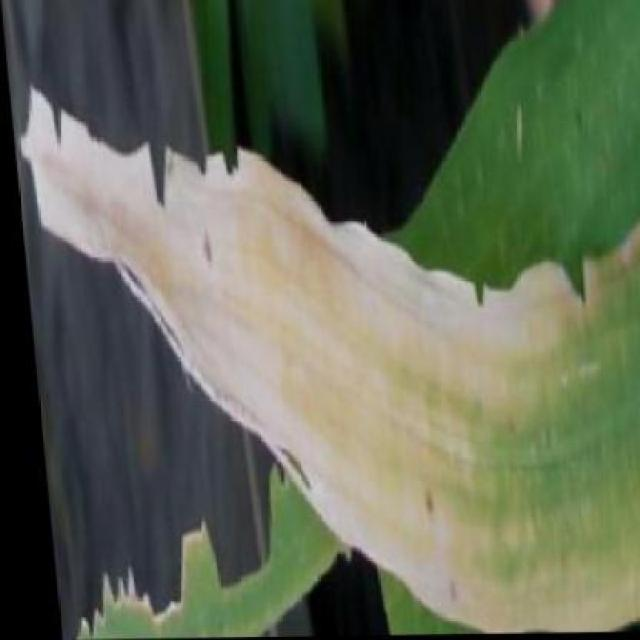Brown_Spot: (232, 280, 640, 638)
